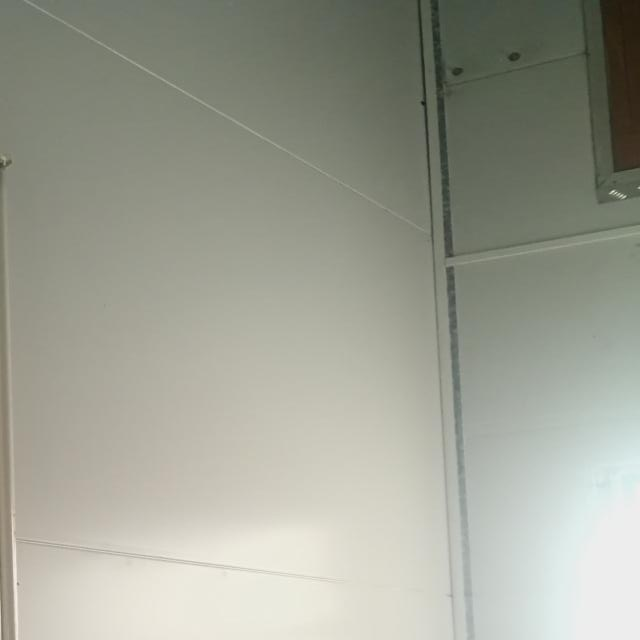fluorescent tube: (0, 127, 61, 640)
